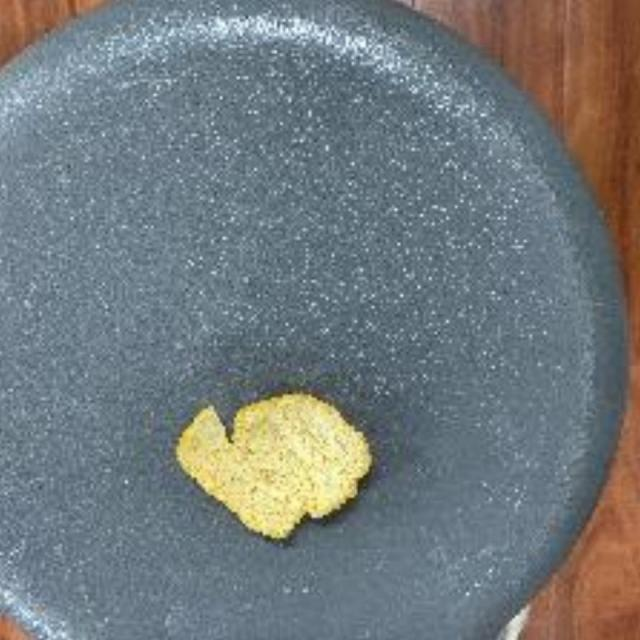orange peel: (162, 398, 378, 539)
